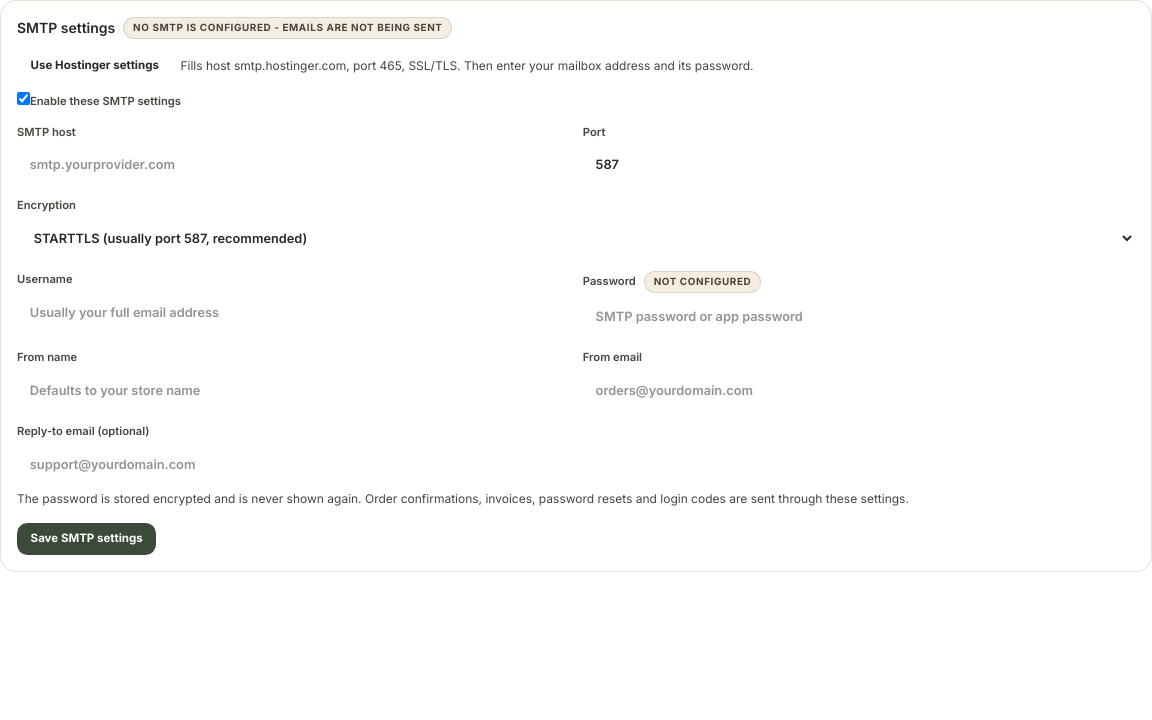
Test: Admin SMTP settings form › changing encryption moves a default port with it
Expected: the text "No SMTP is configured - emails are not being sent" is shown, left=123, top=17, right=452, bottom=39
Select "SSL/TLS (usually port 465)" in the dropdown at (576, 238), box left=17, top=220, right=1135, bottom=257
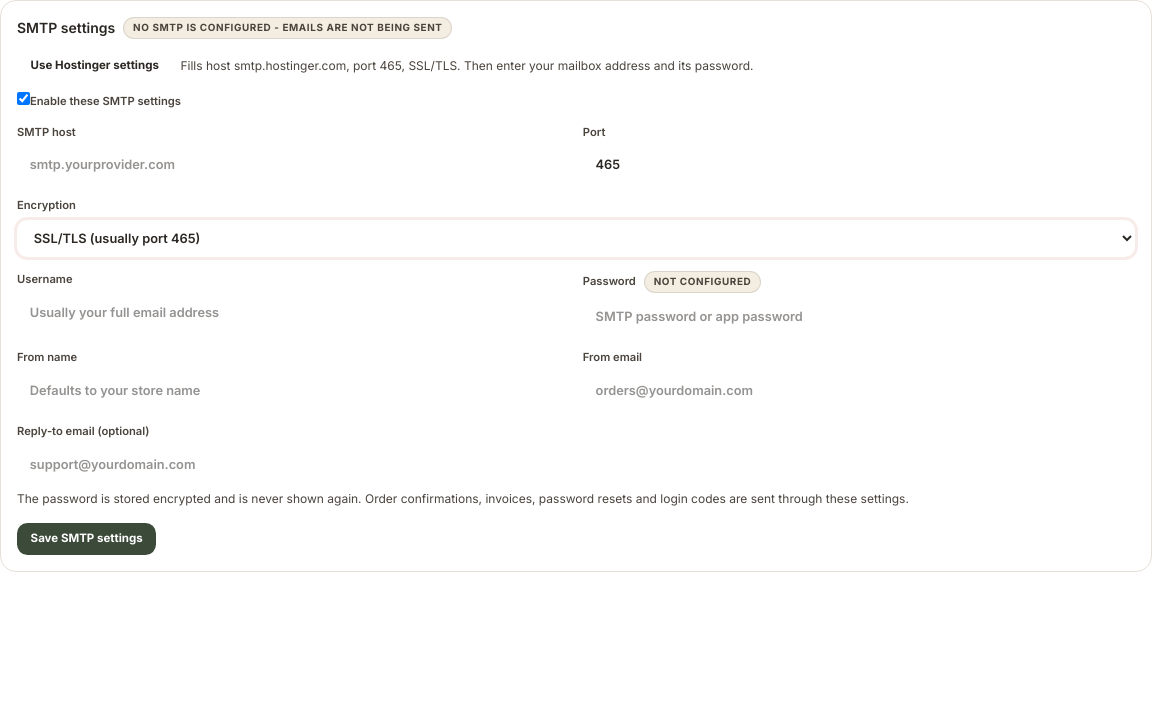
Expected: the number field holds "465", left=583, top=146, right=1135, bottom=184
